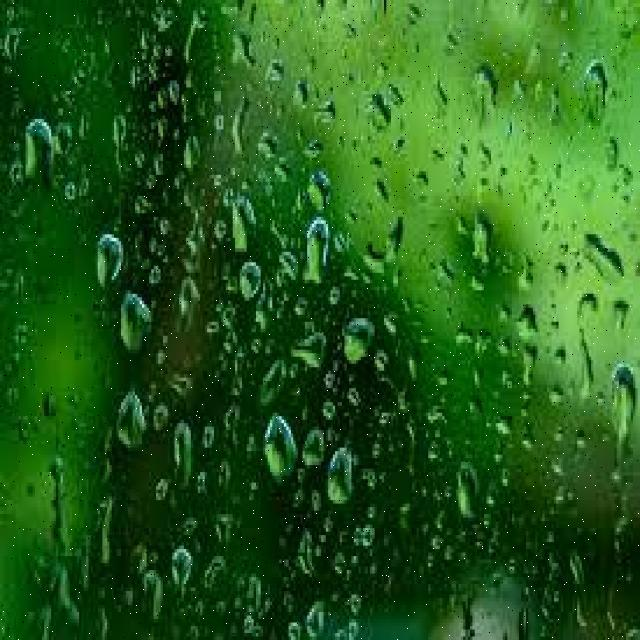raindrop: (0, 80, 55, 209), (564, 220, 634, 308), (456, 188, 510, 296), (252, 392, 304, 499), (107, 365, 158, 471), (450, 442, 500, 542), (580, 41, 625, 148), (84, 212, 134, 308), (601, 339, 640, 459), (300, 198, 346, 299), (316, 431, 362, 526), (110, 281, 157, 371), (159, 402, 200, 488), (338, 304, 380, 386), (223, 188, 260, 260), (229, 243, 264, 313)
